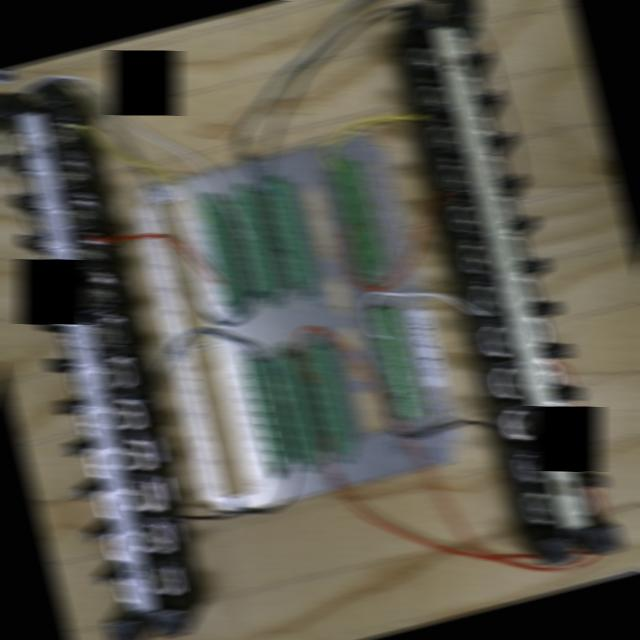Flathead_Block: (399, 0, 623, 566)
Phillips_Block: (0, 79, 186, 640)
Terminal_1: (368, 303, 424, 422), (329, 156, 385, 272)
Terminal_2: (303, 344, 357, 457), (271, 353, 325, 466), (262, 176, 316, 287), (229, 186, 282, 295), (196, 195, 248, 305)
